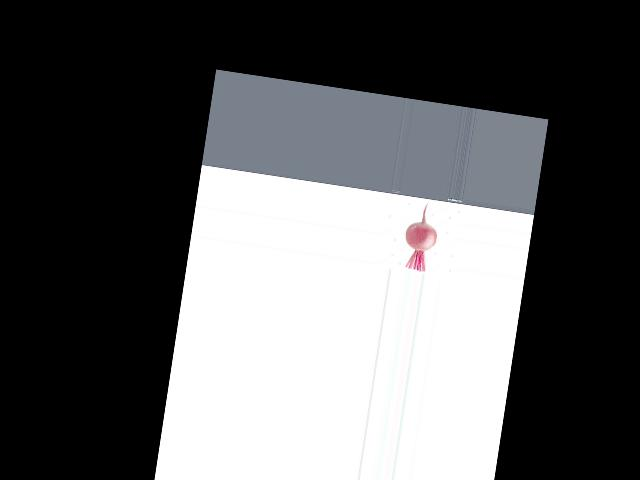beet: (400, 198, 441, 273)
